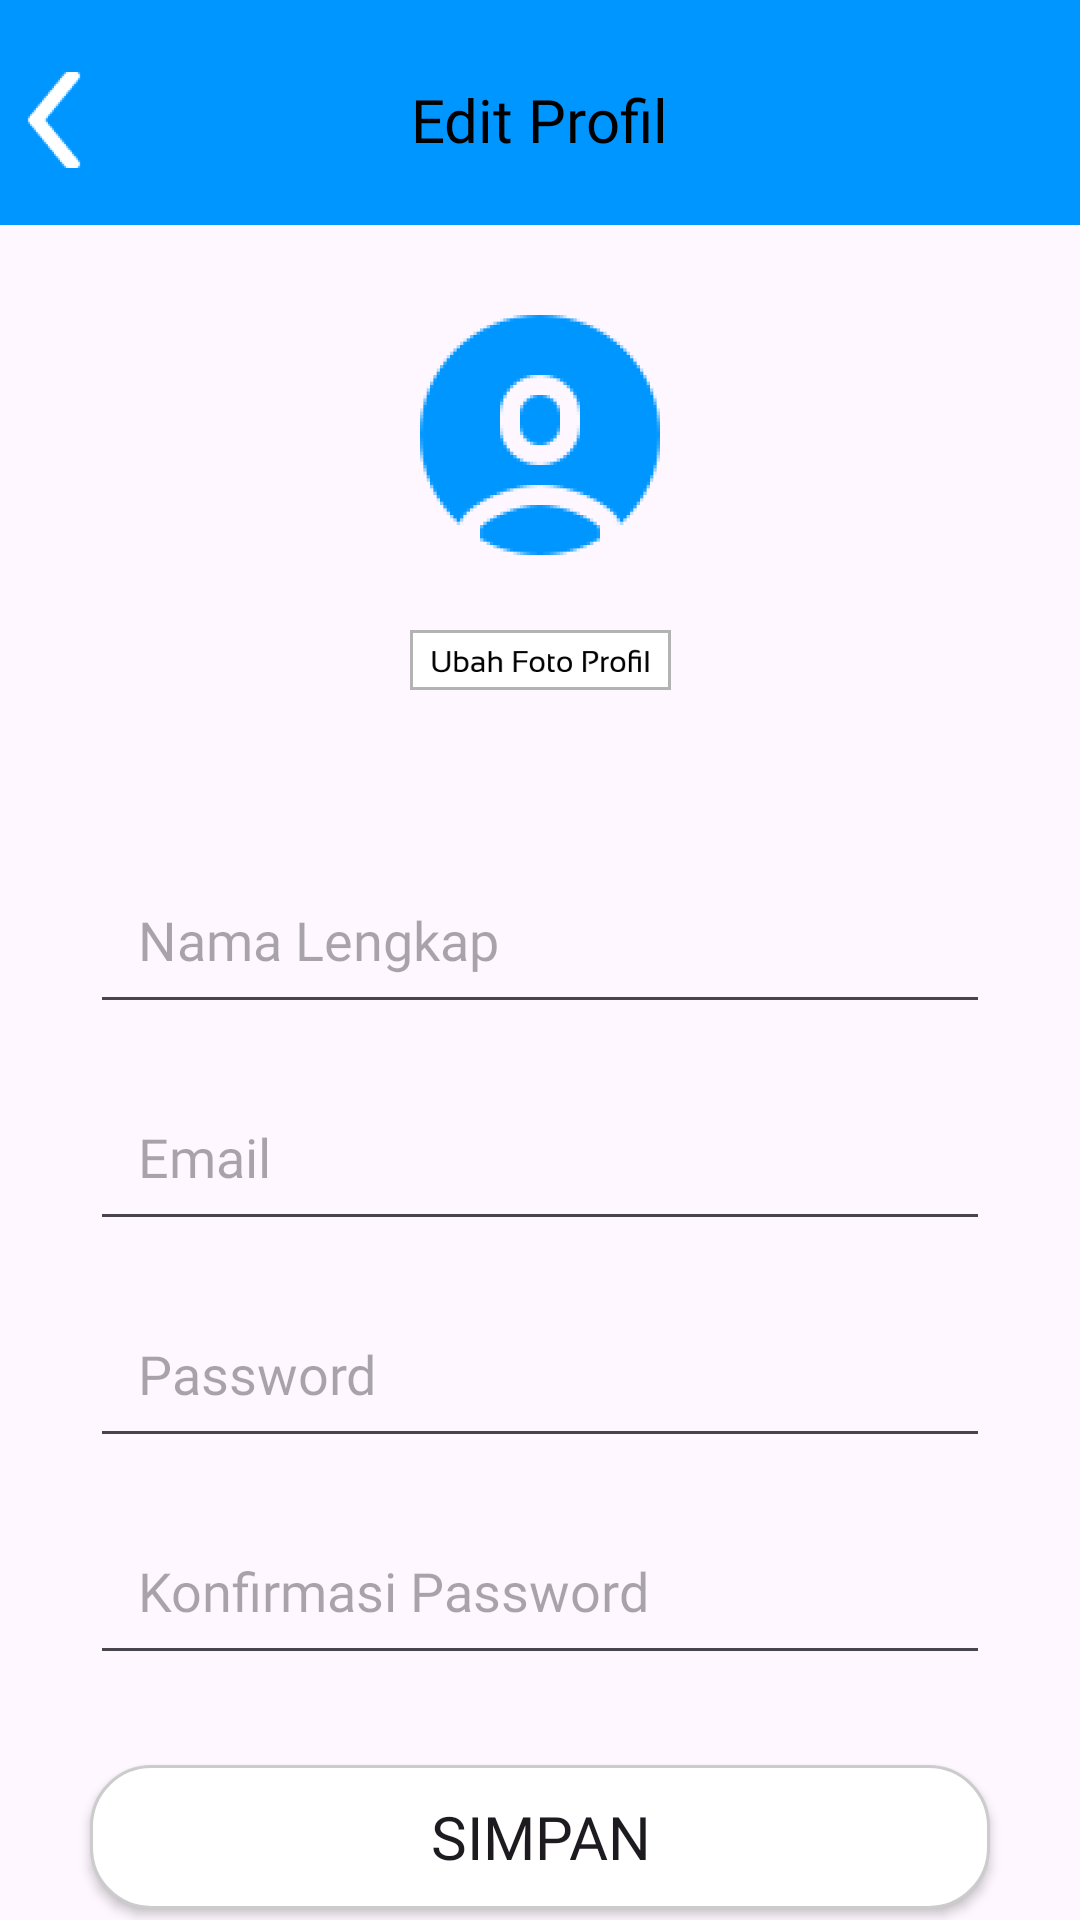

Icons on this 1080px x 1920px Android screen, each with the point to tap as (x=x, y=y):
back: (x=54, y=120)
profile picture: (x=540, y=435)
